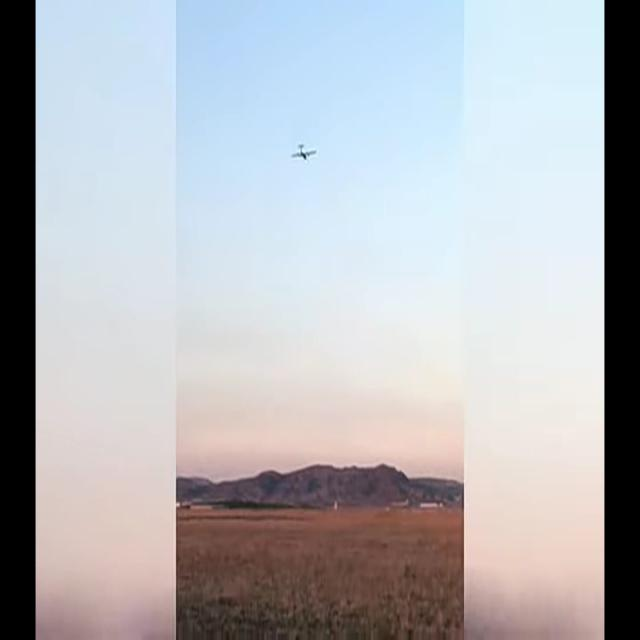iha: (290, 143, 316, 161)
